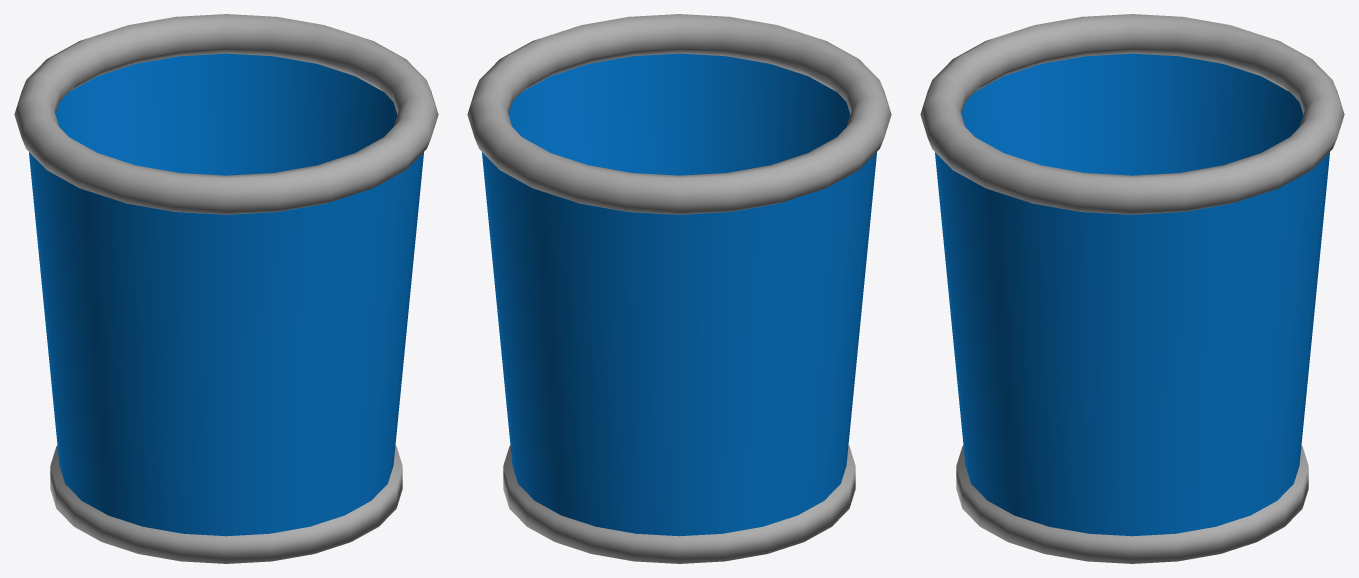
The model's file is prullenbak versie 2.fbx.
The picture shows the model from 3 angles, left to right: view 1: azimuth 30°, elevation 25°; view 2: azimuth 150°, elevation 25°; view 3: azimuth 270°, elevation 25°; orthographic projection.
Visible parts, largest first — view 1: group6_Cylinder.003; view 2: group6_Cylinder.003; view 3: group6_Cylinder.003.
Boxes of the visible parts, x1,y1,x2,y2 form: group6_Cylinder.003: (14,14,438,563); group6_Cylinder.003: (467,14,891,563); group6_Cylinder.003: (920,14,1344,563).
Bounding box in the file's own units: 210 × 215 × 210.
